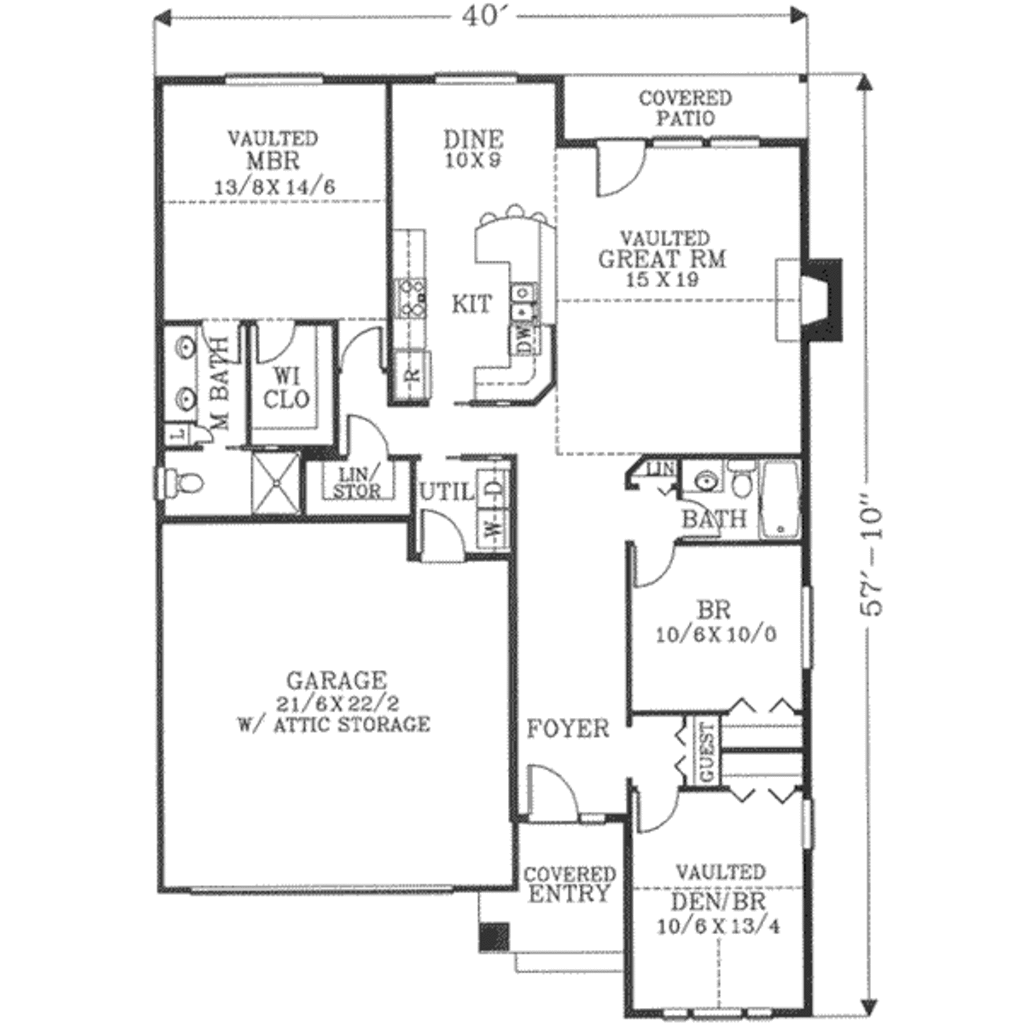door: (408, 501, 471, 567), (335, 319, 397, 381), (629, 780, 693, 839), (526, 761, 585, 823), (192, 310, 251, 368), (592, 136, 648, 197), (626, 539, 682, 599), (332, 414, 399, 463), (251, 312, 301, 372), (674, 498, 722, 542)
kitchen_bar: (463, 194, 559, 410)
large_sink: (151, 464, 212, 499), (726, 457, 757, 498)
small_sink: (165, 320, 194, 417), (682, 456, 724, 496)
tub: (758, 452, 805, 545)
window: (221, 65, 325, 90), (798, 583, 825, 671), (664, 1003, 775, 1024), (434, 64, 522, 87), (649, 131, 761, 143), (797, 793, 819, 854)
